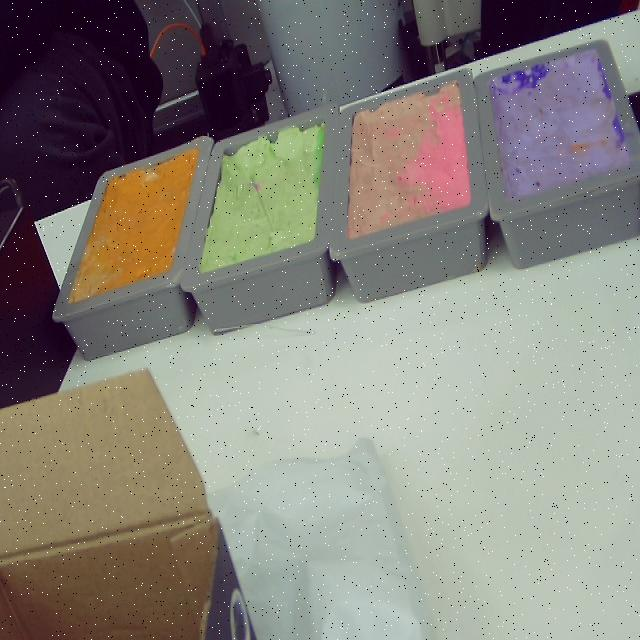block: (474, 36, 640, 268), (329, 66, 492, 301), (178, 108, 343, 335), (47, 138, 213, 359)
